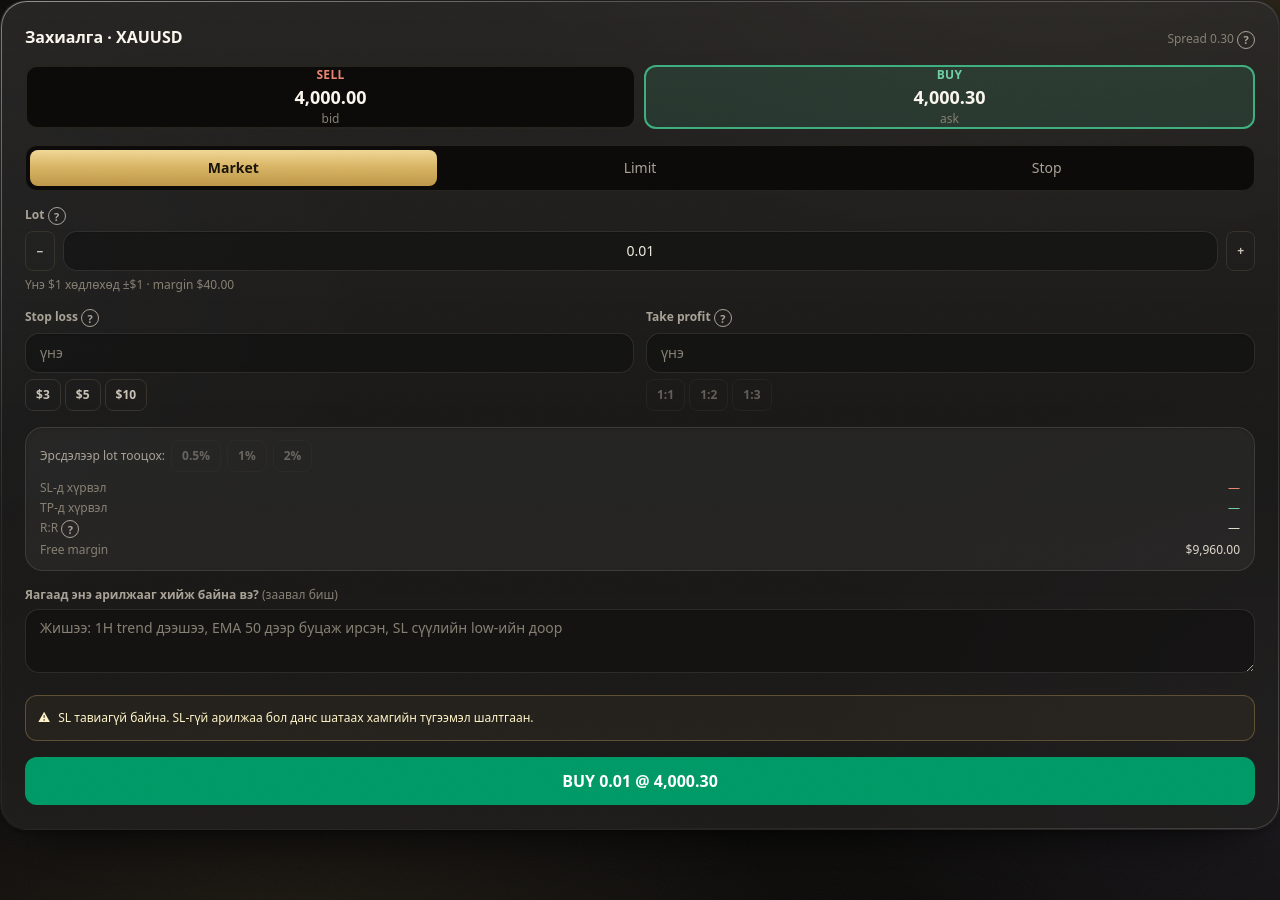
Test: switching side clears a stop and target set for the other side; a wrong-side target is named, not scored
The width and height of the screenshot is (1280, 900).
Click the button "$5": click(83, 395) [65,379,101,411]
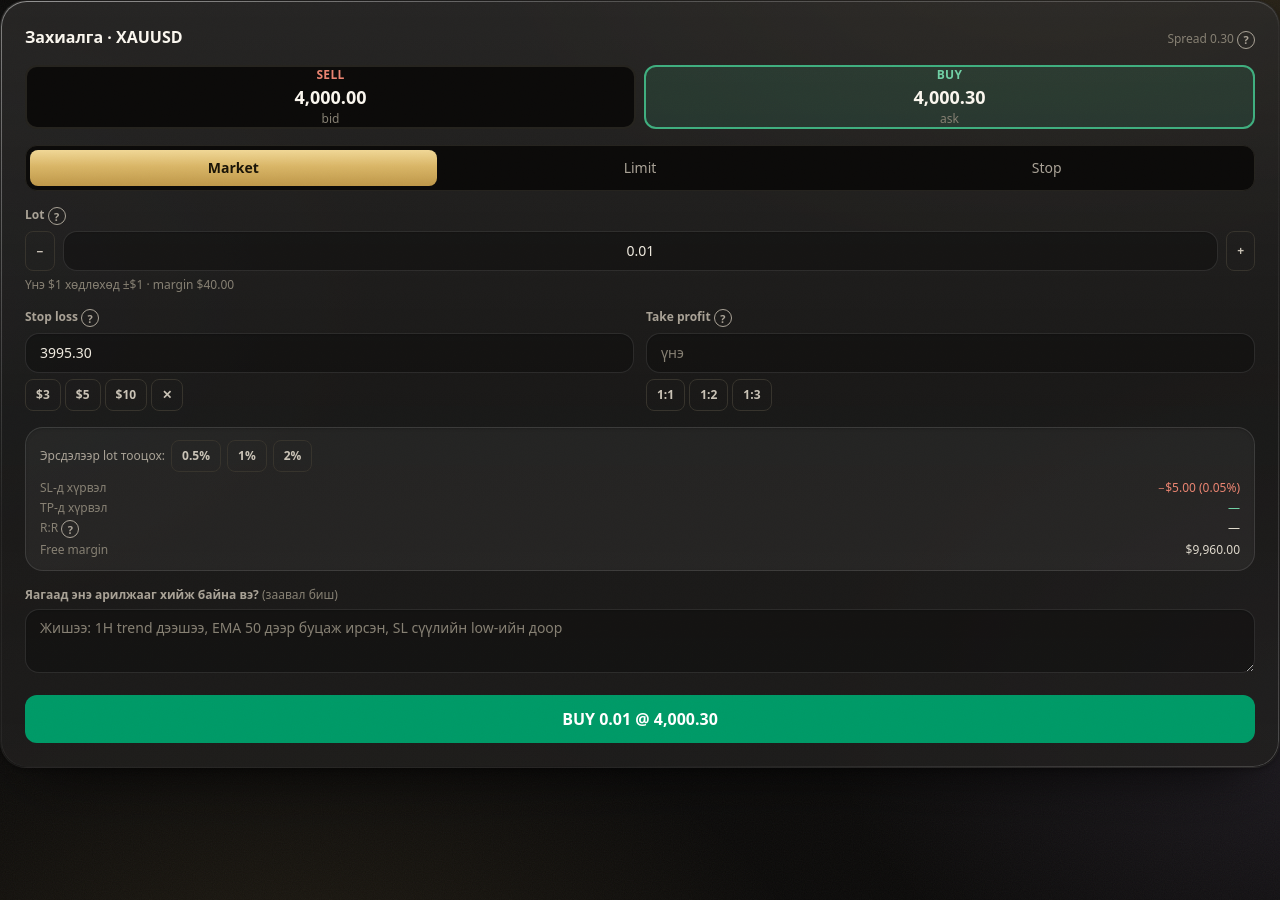
Click the button "SELL 4,000.00 bid": click(330, 97) [25,65,636,129]
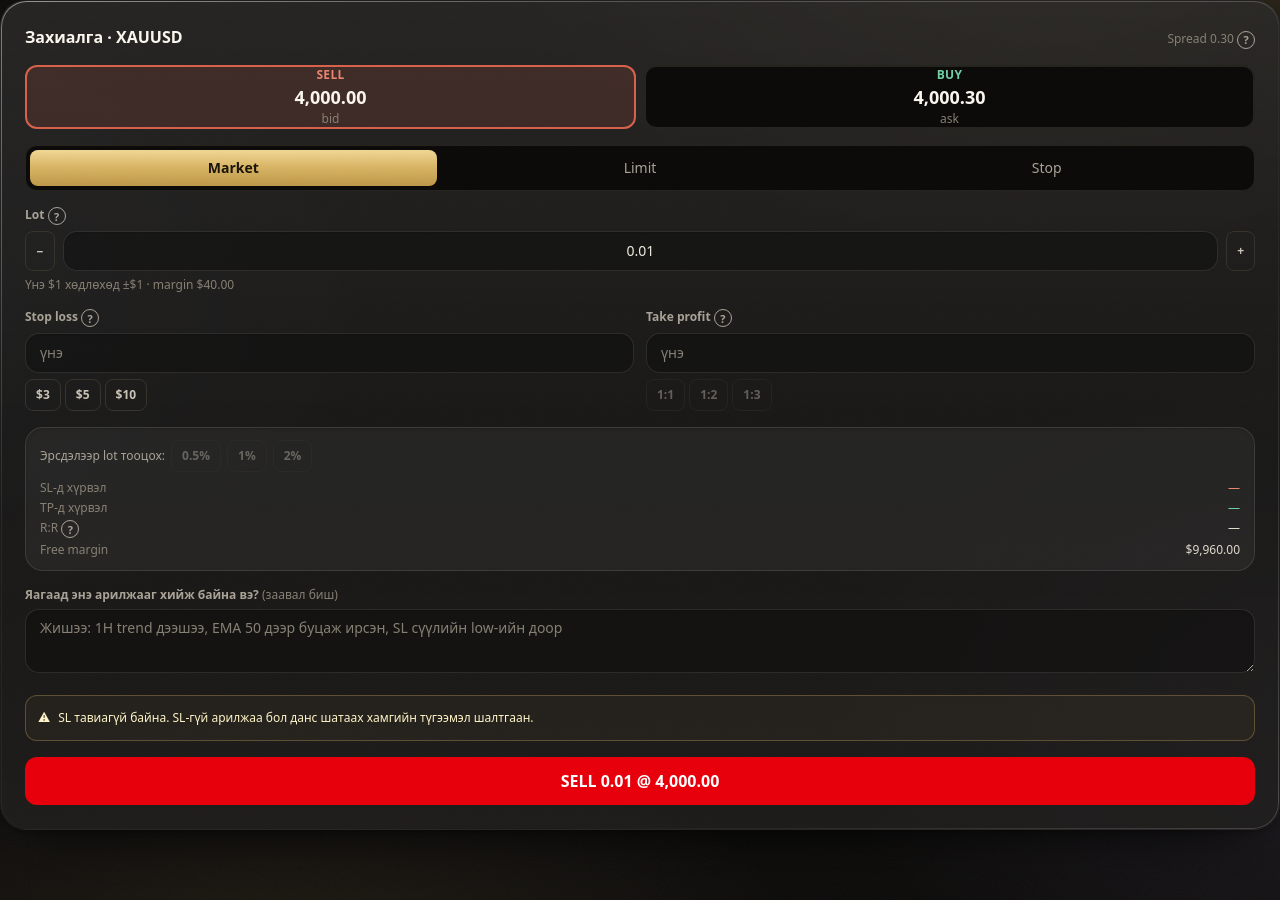
Expected: the field labelled "Stop loss ?" is empty, [25,333,634,373]
In the field labelled "Take profit ?": (950, 353) [646,333,1255,373], type "4010"
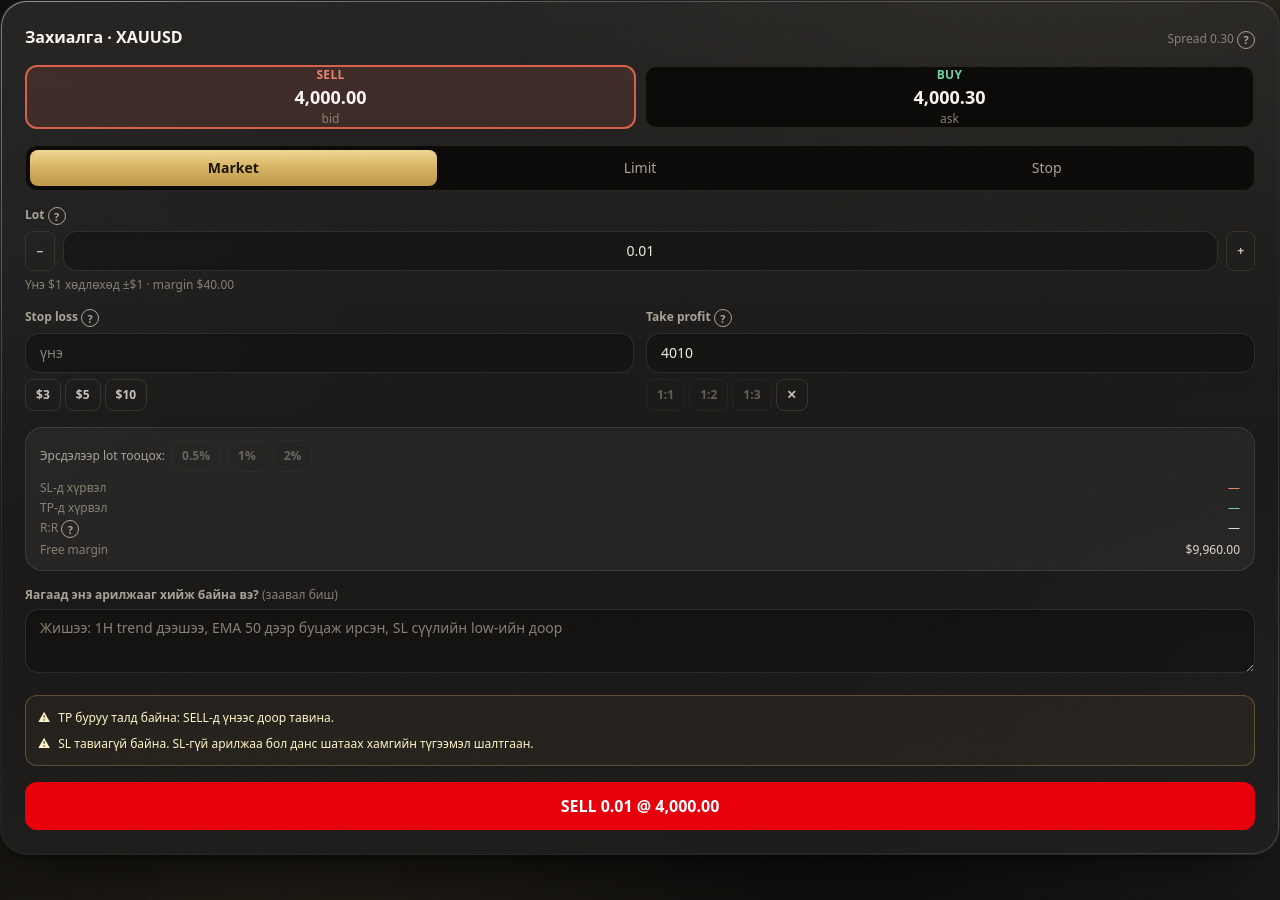
Expected: the list named "Анхааруулга" shows "TP буруу талд", [58,709,334,726]
